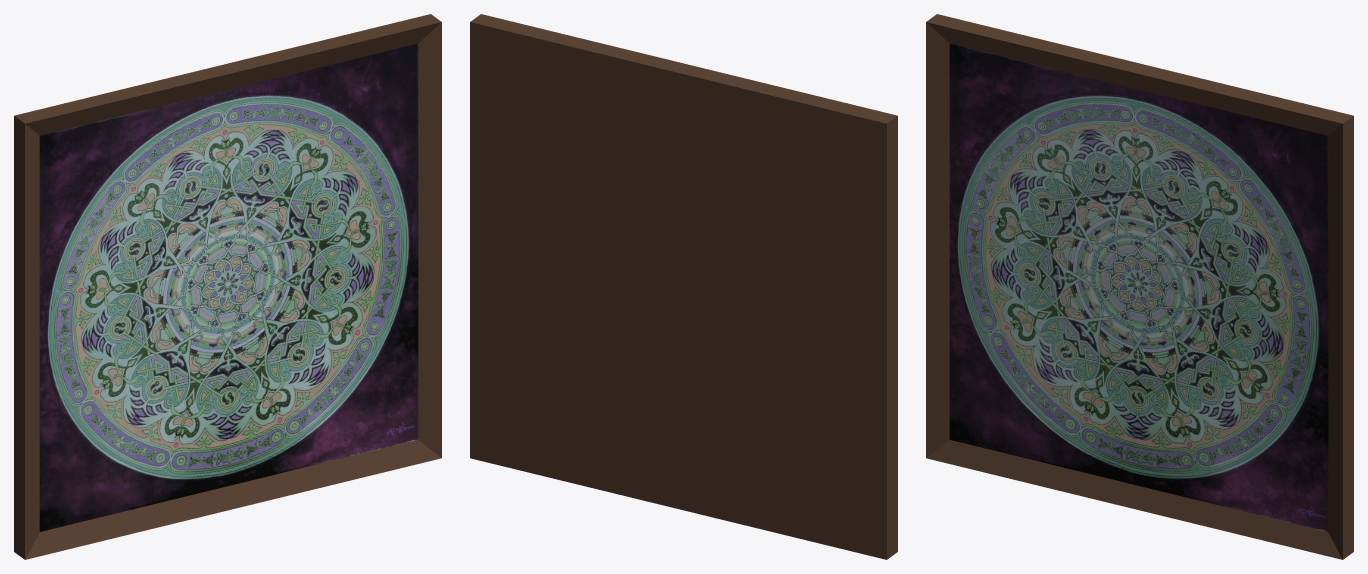
Rendered from enneagon-swans-enneagon-glacier-blue-a1-walnut-tray-v2.glb.
3 renders of one model, left to right at view 1: azimuth 30°, elevation 25°; view 2: azimuth 150°, elevation 25°; view 3: azimuth 330°, elevation 25°, orthographic.
Visible parts, largest first — view 1: FramedPrint; view 2: FramedPrint; view 3: FramedPrint.
Part boxes in pixels (box(x1,y1,x2,y2)): FramedPrint: box(14, 14, 441, 559); FramedPrint: box(470, 14, 897, 559); FramedPrint: box(926, 14, 1353, 559).
Bounding box in the file's own units: 0.655 × 0.655 × 0.03.
2 materials, 1 textured.
